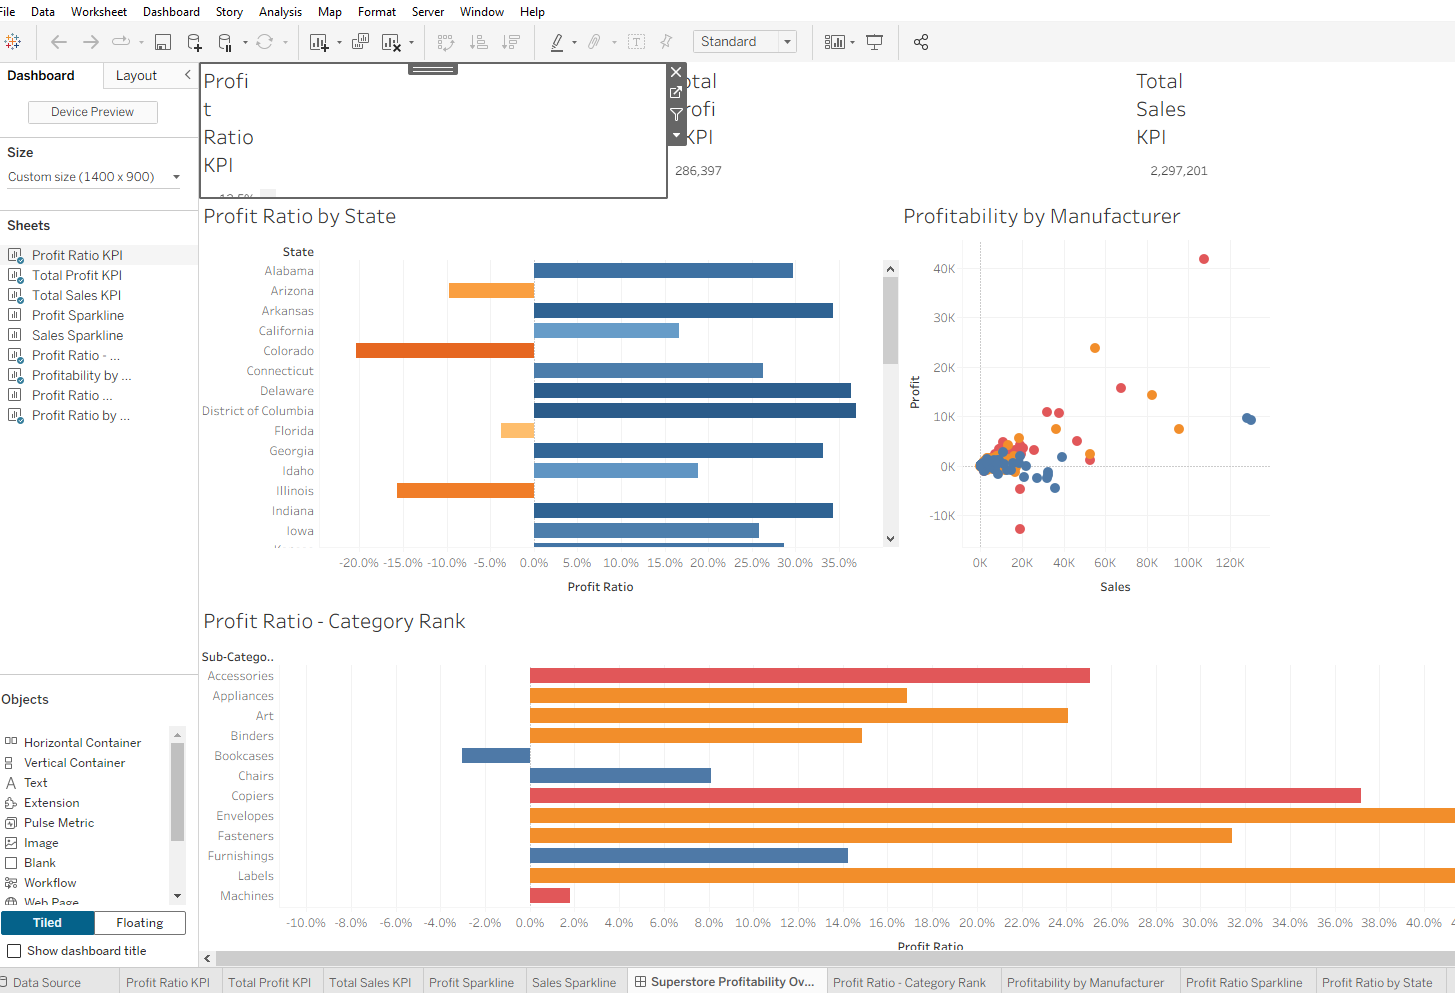

Layout of this report page (visuals, bound fields, positions):
{"tool":"tableau","page":{"name":"Superstore Profitability Overview","canvas":[1400,900],"ordinal":0},"visuals":[{"type":"worksheet","title":"Profit Ratio KPI","mark":"Text","box":[0,0,466.7,135]},{"type":"worksheet","title":"Profit Ratio by State","mark":"Bar","rows":["State"],"cols":["Calculation_0d79cc7dd47e"],"box":[0,0,700,405]},{"type":"worksheet","title":"Total Profit KPI","mark":"Text","box":[466.7,0,466.7,135]},{"type":"worksheet","title":"Profitability by Manufacturer","mark":"Circle","rows":["Profit"],"cols":["Sales"],"box":[700,0,700,405]},{"type":"worksheet","title":"Total Sales KPI","mark":"Text","box":[933.3,0,466.7,135]},{"type":"worksheet","title":"Profit Ratio - Category Rank","mark":"Bar","rows":["Sub-Category"],"cols":["Calculation_0d79cc7dd47e"],"box":[0,540,1400,360]}]}

Visuals, with their boxes on the page's 1400x900 design canvas (x1, y1, x2, y2). These are canvas units, not pixel positions in the 1455x993 screenshot, which may show the page scaled, cropped or inside an application window:
"Profit Ratio KPI" worksheet (Text marks): x1=0 y1=0 x2=467 y2=135
"Profit Ratio by State" worksheet (Bar marks): x1=0 y1=0 x2=700 y2=405
"Total Profit KPI" worksheet (Text marks): x1=467 y1=0 x2=933 y2=135
"Profitability by Manufacturer" worksheet (Circle marks): x1=700 y1=0 x2=1400 y2=405
"Total Sales KPI" worksheet (Text marks): x1=933 y1=0 x2=1400 y2=135
"Profit Ratio - Category Rank" worksheet (Bar marks): x1=0 y1=540 x2=1400 y2=900
